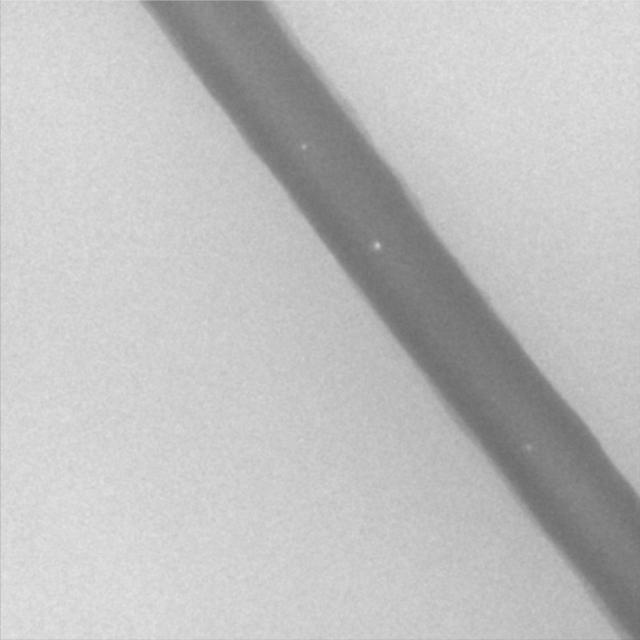air hole: (370, 240, 382, 252), (298, 141, 306, 152)
